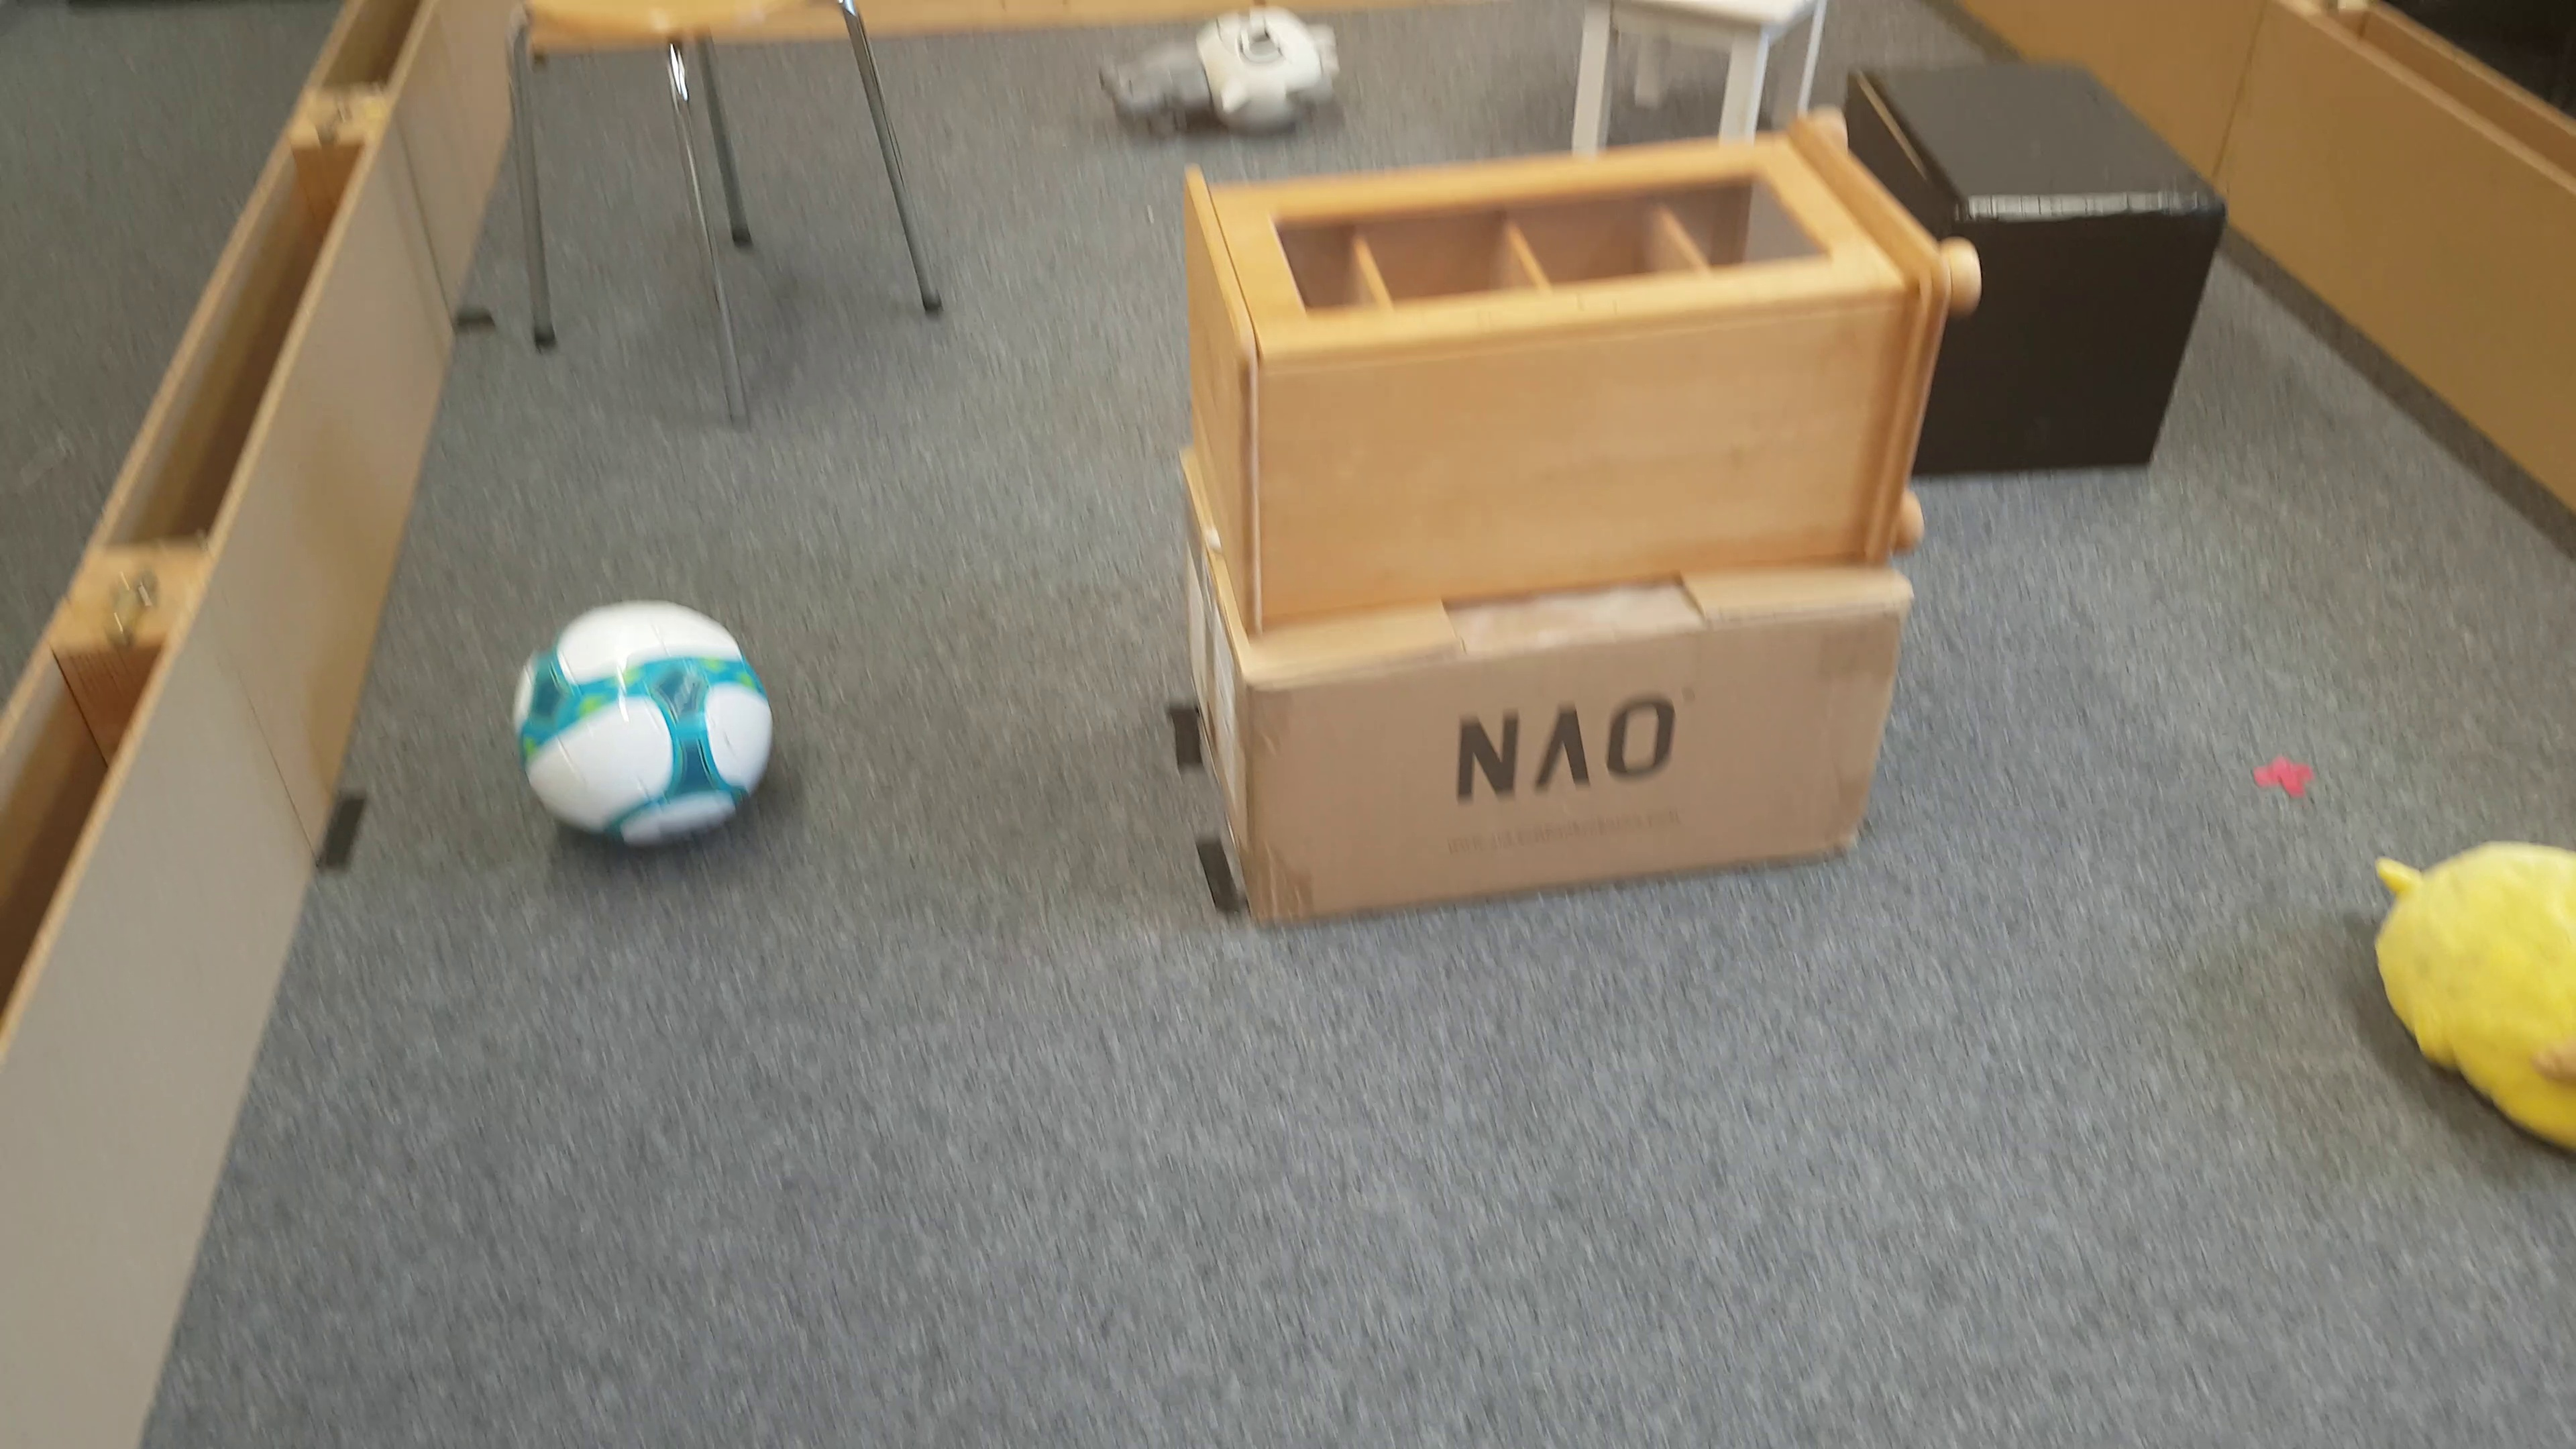grasp: (2371, 830, 2576, 1166), (1102, 14, 1341, 138)
kick: (517, 602, 778, 840)
push: (1985, 74, 2226, 488)
